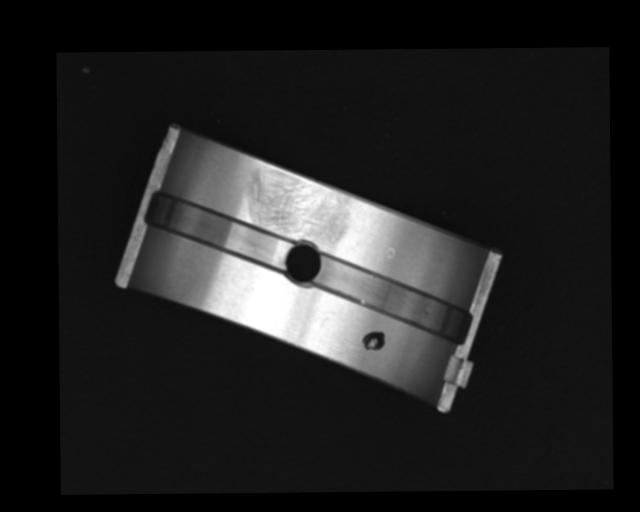blot: (360, 330, 386, 353)
bruise: (386, 246, 395, 260)
gap: (313, 252, 467, 341), (145, 191, 292, 269)
hole: (282, 240, 323, 287)
scratch: (244, 165, 347, 245)
